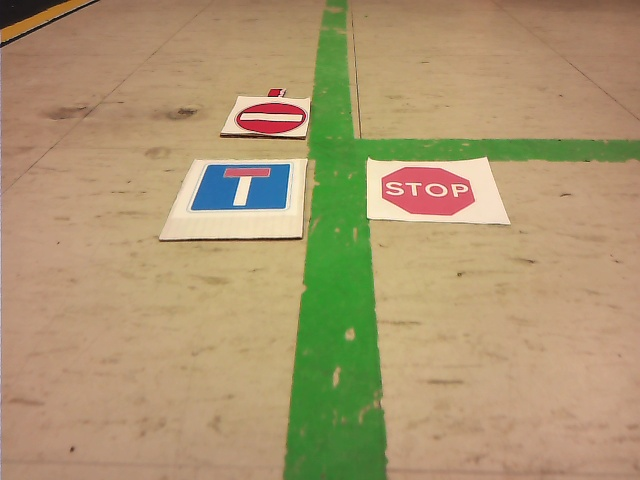DEAD END: (192, 165, 291, 210)
NO ENTRY: (236, 103, 307, 134)
STOP: (382, 167, 474, 215)
